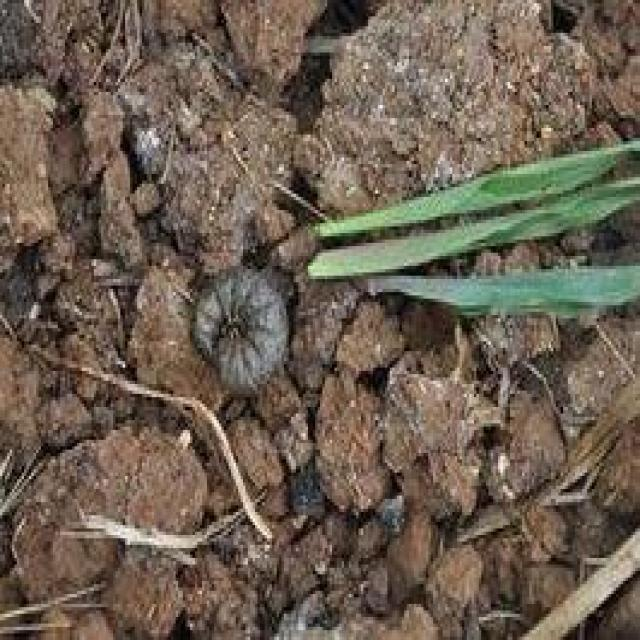black cutworm: (186, 270, 316, 395)
